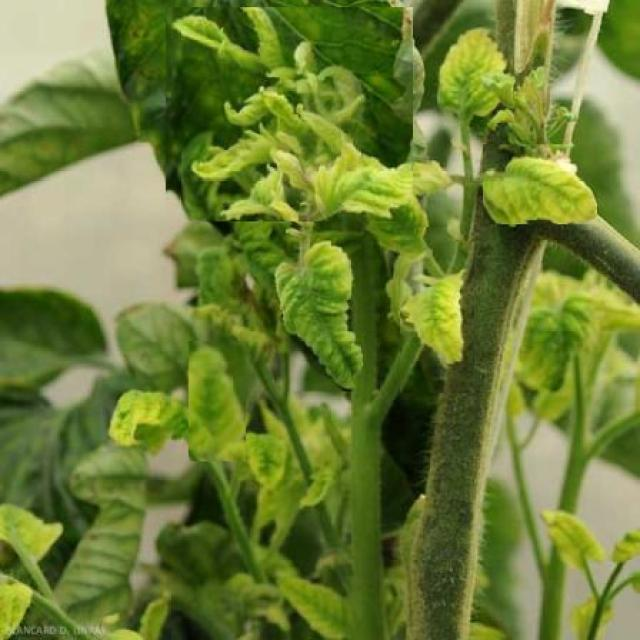Yellow Leaf Curl Virus: (166, 7, 413, 222), (274, 223, 380, 391), (400, 241, 474, 393), (482, 144, 598, 224), (322, 156, 447, 228), (437, 20, 514, 123), (188, 340, 246, 461), (266, 563, 348, 640), (197, 123, 280, 176)
